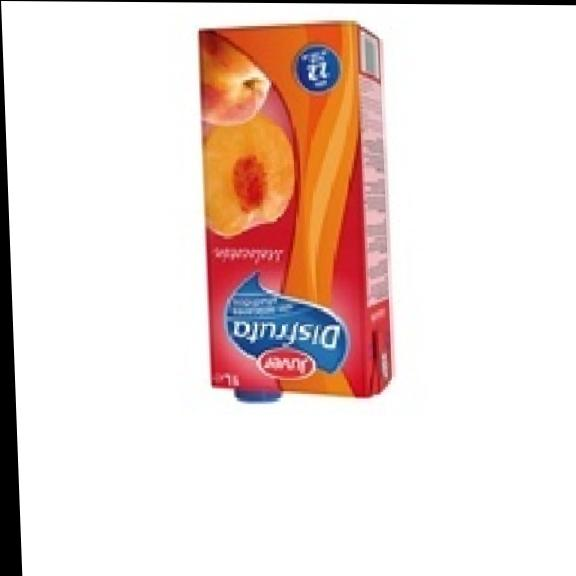Kertas: (195, 18, 394, 402)
